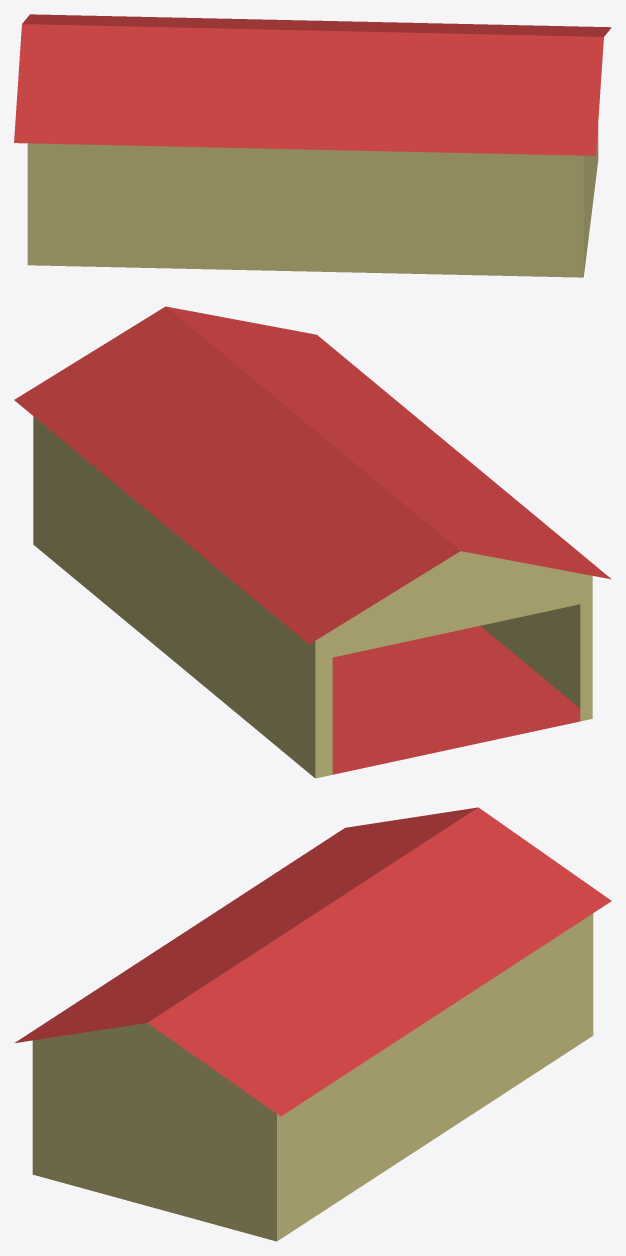
3 views of the same model, one above another, from view 1: azimuth 30°, elevation 25°; view 2: azimuth 150°, elevation 25°; view 3: azimuth 270°, elevation 25° (orthographic). The views are drawn at different scales.
Bounding box in the file's own units: 37.84 × 33.11 × 11.61.
